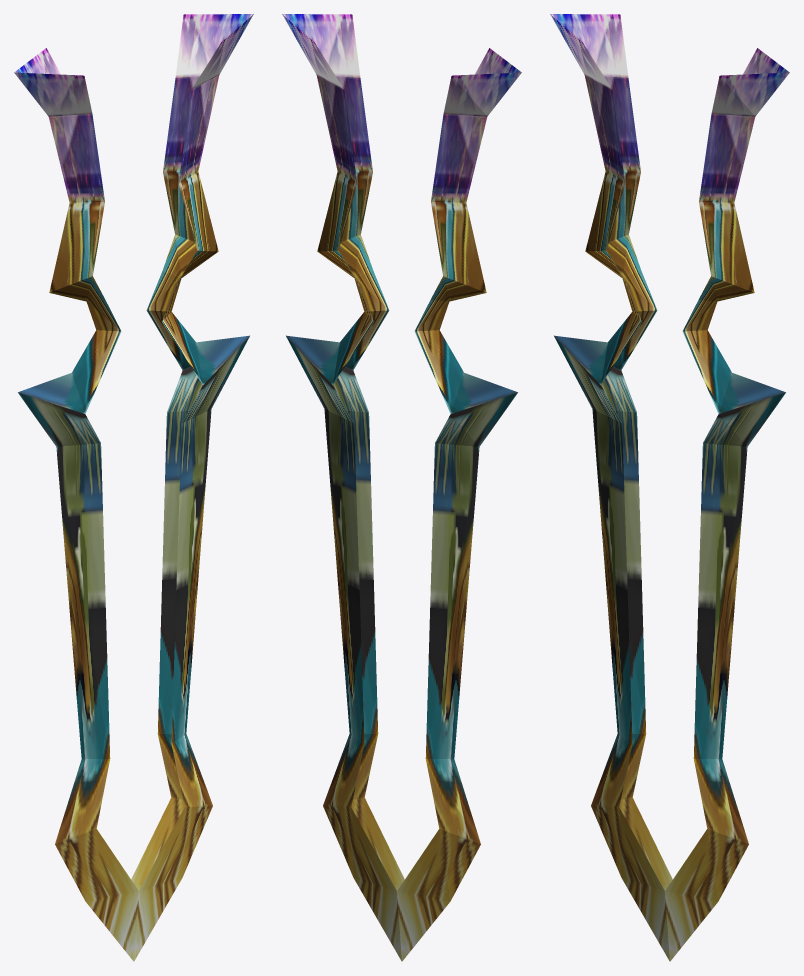
Rendered from jainren.FBX.
The picture shows the model from 3 angles, left to right: view 1: azimuth 30°, elevation 25°; view 2: azimuth 150°, elevation 25°; view 3: azimuth 330°, elevation 25°; orthographic projection.
Parts seen in each view (by area): view 1: Object001; view 2: Object001; view 3: Object001.
Part boxes in pixels (x1,y1,x2,y2): Object001: [14, 14, 253, 961]; Object001: [282, 14, 521, 961]; Object001: [550, 14, 789, 961].
Bounding box in the file's own units: 58.3 × 213 × 15.94.
